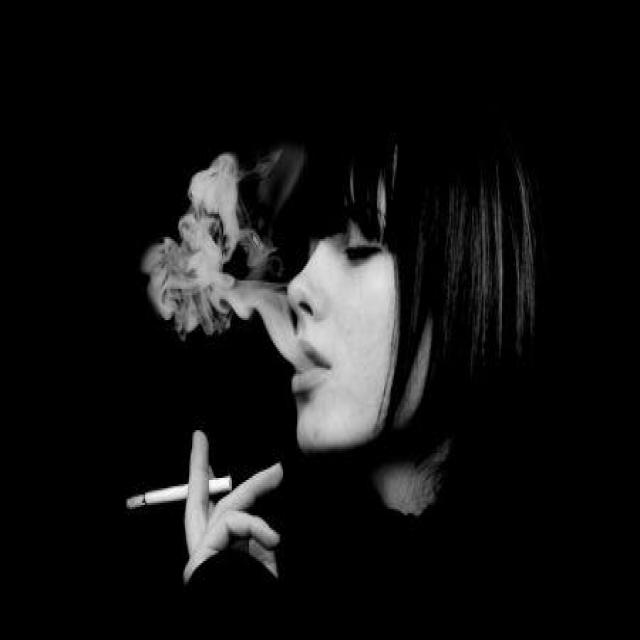smoke: (122, 451, 245, 521)
